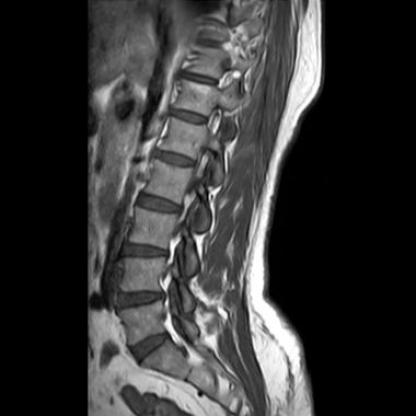Disc Bulgerotation: (121, 236, 170, 270), (115, 285, 165, 313)
